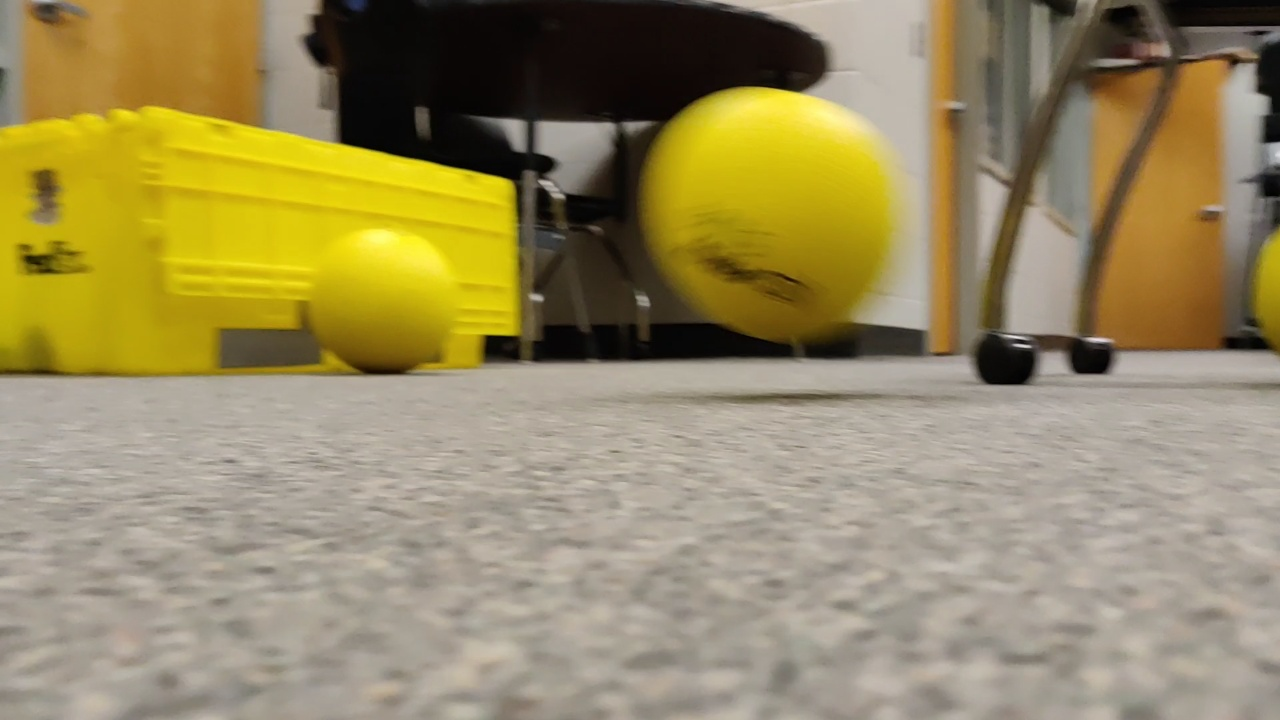Ball: (637, 81, 893, 336), (306, 226, 458, 377)
